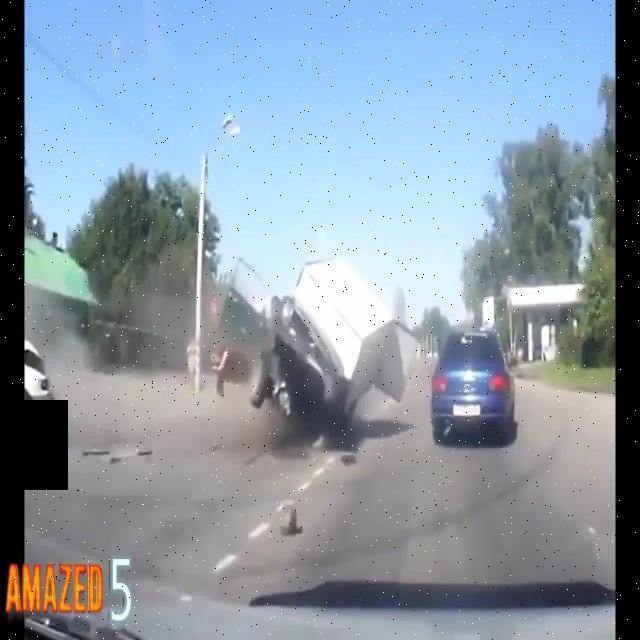severe: (217, 241, 421, 444)
